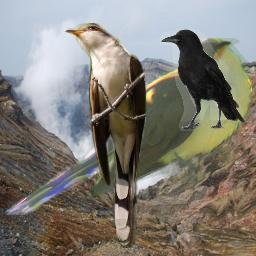Crow: (160, 29, 245, 131)
Cuckoo: (3, 38, 252, 215), (64, 23, 148, 248)
